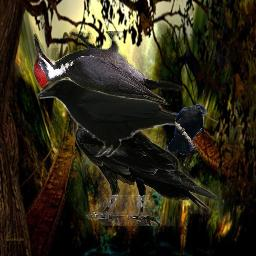Crow: (47, 81, 218, 226), (33, 75, 199, 157), (167, 104, 208, 155)
Woodpecker: (33, 31, 184, 105)
